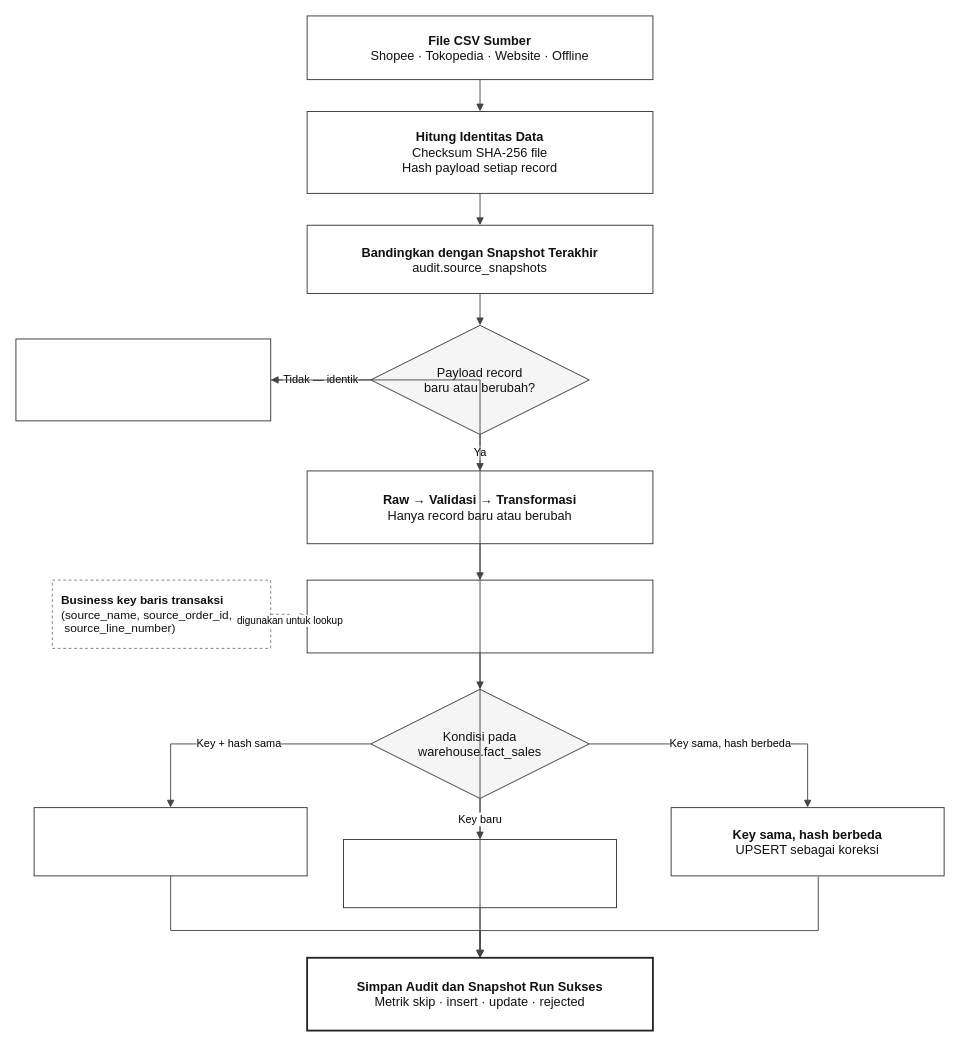
This 960x1047 diagram has some shape labels left out. The shapes that lost their labels are listed below. From the top down, each one's box as (x1, y1, x2, y2) in pixels, then its label:
(15, 338, 271, 421): Lewati Record Identik Tidak ditulis ke Raw Tidak divalidasi ulang
(306, 579, 653, 653): Bandingkan Kandidat Valid dengan Fact Business key + source_record_hash
(33, 807, 307, 876): Key dan hash sama Fact tidak ditulis ulang
(343, 839, 617, 908): Business key baru INSERT fact baru
